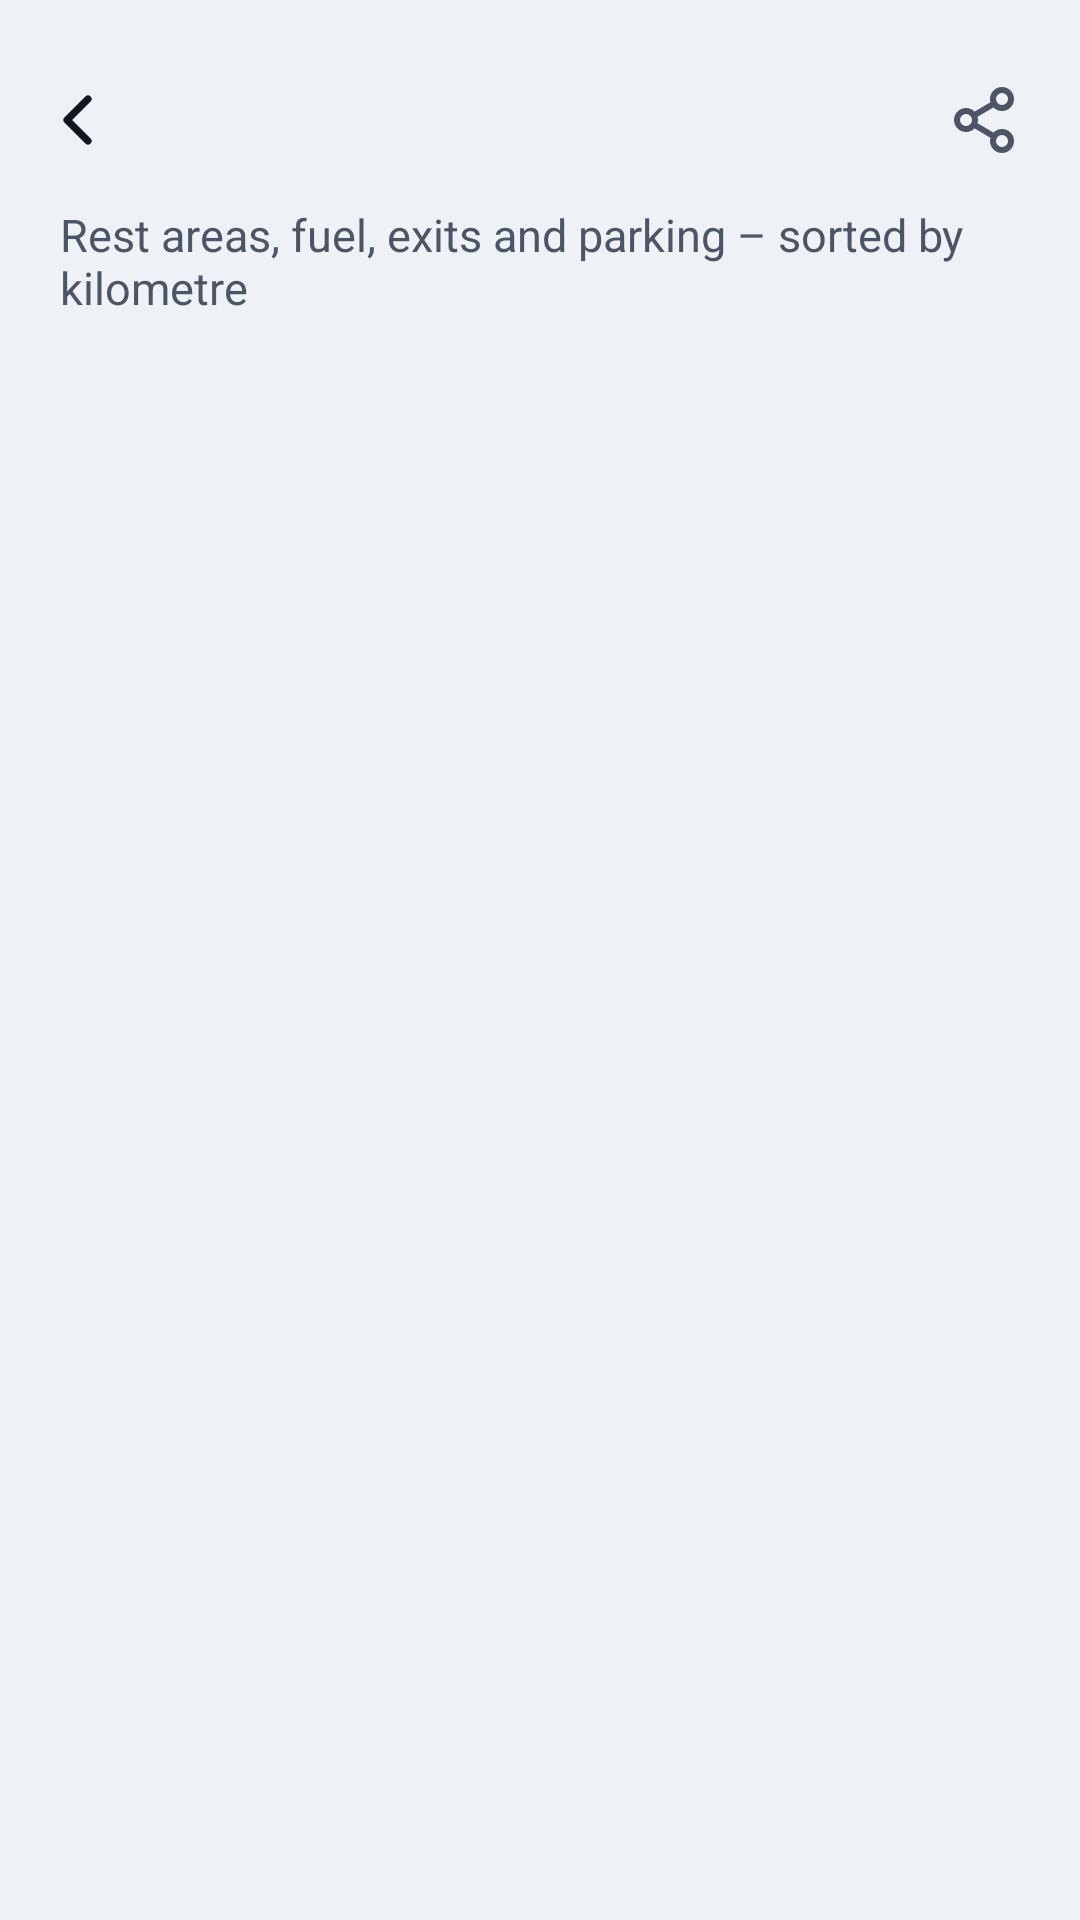

Named icons in this screenshot (1080x1920) and their bounding boxes, (x1, y1, x2, y2):
Back: (63, 95, 92, 145)
Share the app: (954, 87, 1014, 153)
